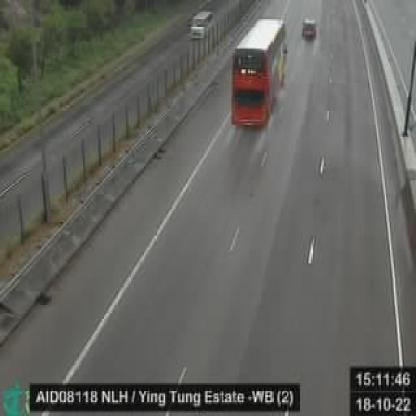Bus: (231, 17, 289, 128)
Car: (188, 8, 214, 39), (301, 17, 318, 40)
